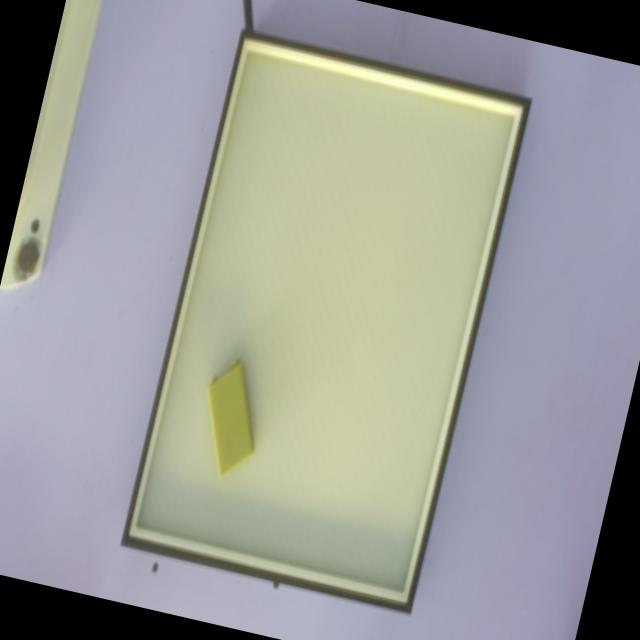bateria: (206, 359, 254, 475)
mesa: (120, 29, 532, 615)
